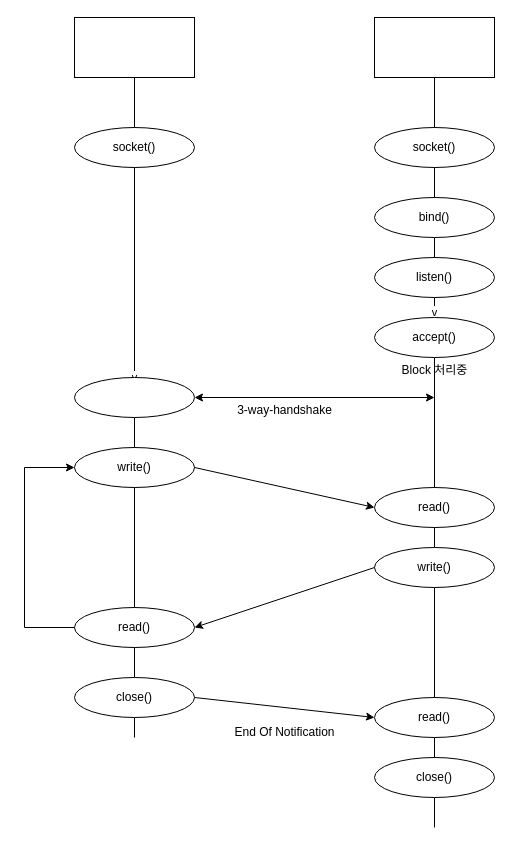
Image size: 512x846. Some labels were removed from this diagram. Each missing label, with the centre of its shape:
"Client" goes at (134,47).
"connect()" goes at (134,397).
"Server" goes at (434,47).
